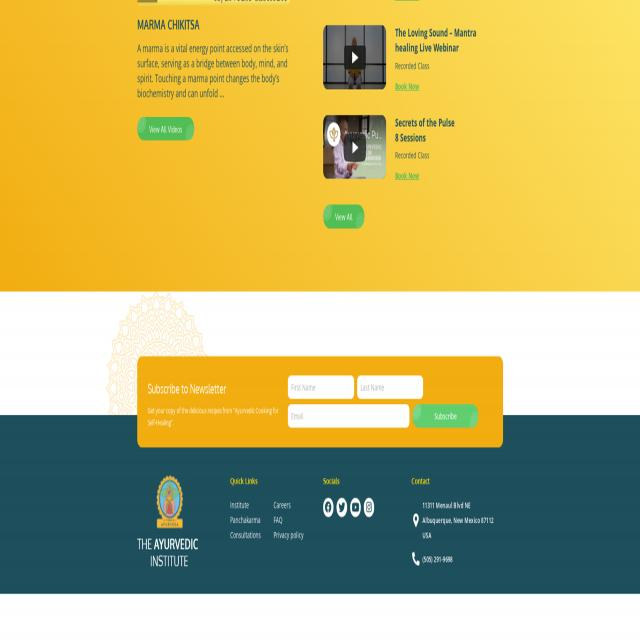button: (137, 474, 198, 566), (412, 404, 478, 428), (137, 117, 194, 140), (323, 205, 365, 228), (350, 498, 361, 518), (337, 498, 347, 517), (364, 498, 374, 517), (324, 499, 333, 516)
field: (288, 405, 409, 427), (288, 376, 354, 398), (357, 376, 423, 398)
